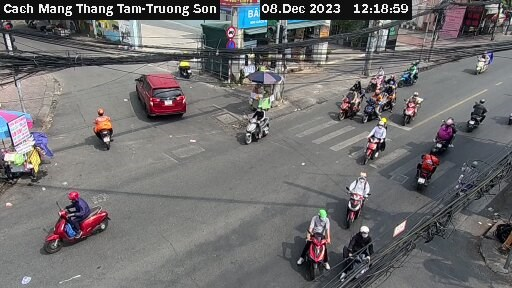car: (130, 70, 187, 123)
motorbike: (43, 193, 114, 249), (328, 166, 381, 226), (334, 226, 380, 288), (296, 210, 338, 273), (233, 105, 288, 151), (81, 104, 127, 155), (403, 148, 444, 193), (360, 123, 394, 161), (432, 118, 466, 153), (462, 94, 492, 129), (402, 84, 429, 119), (402, 93, 433, 123), (472, 44, 500, 77), (401, 60, 432, 88), (175, 55, 201, 85), (361, 93, 387, 123), (333, 90, 356, 117), (363, 64, 389, 87)
